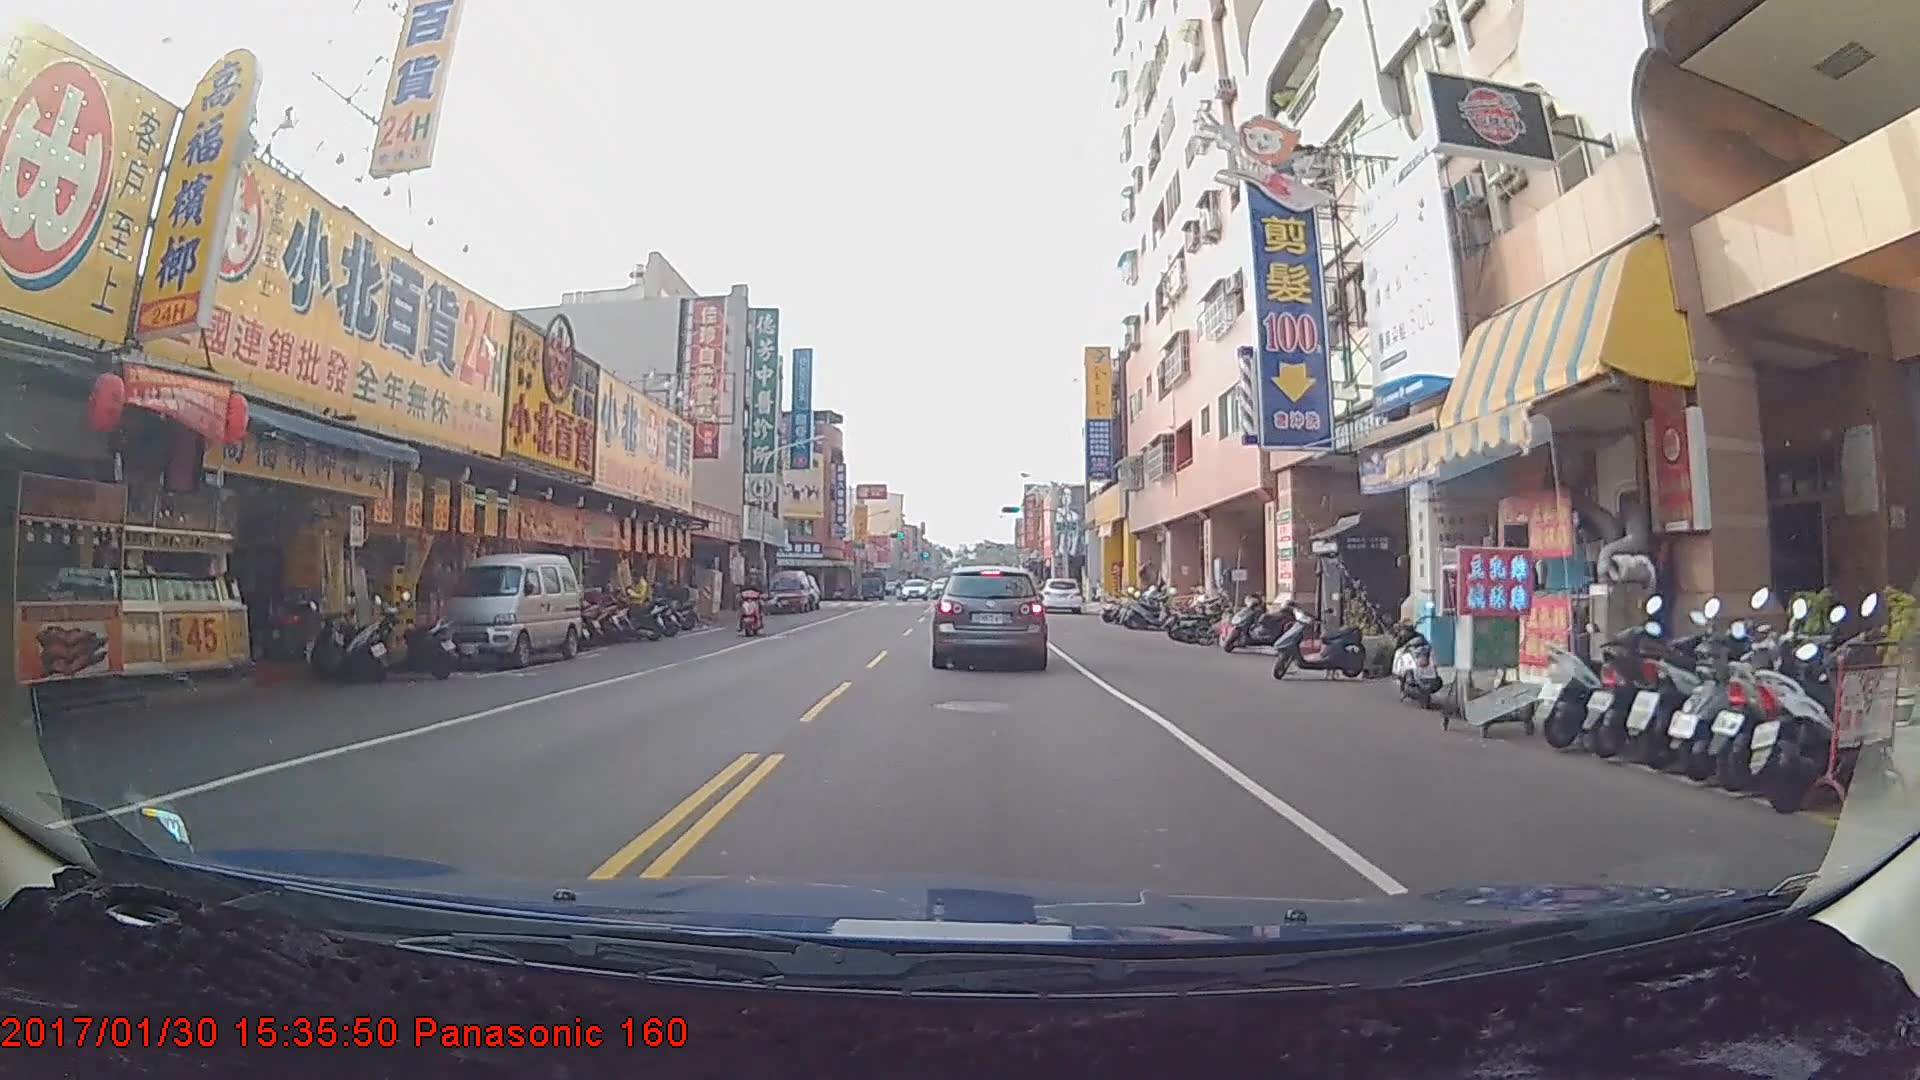pedestrian: (616, 568, 653, 637)
rider: (741, 563, 775, 636)
vehicle: (428, 550, 577, 667), (933, 563, 1047, 669), (766, 570, 812, 613), (1036, 577, 1083, 616), (900, 580, 929, 602)
